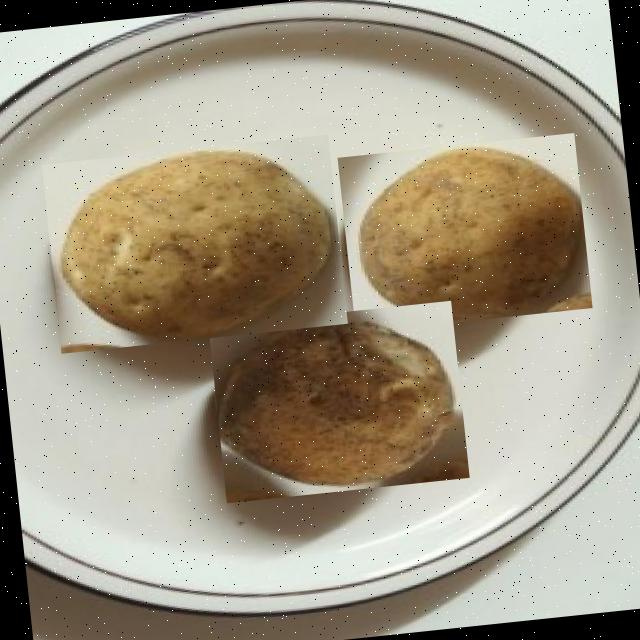Damaged potato: (207, 300, 468, 503)
Potato: (41, 134, 347, 353), (336, 132, 591, 332)
